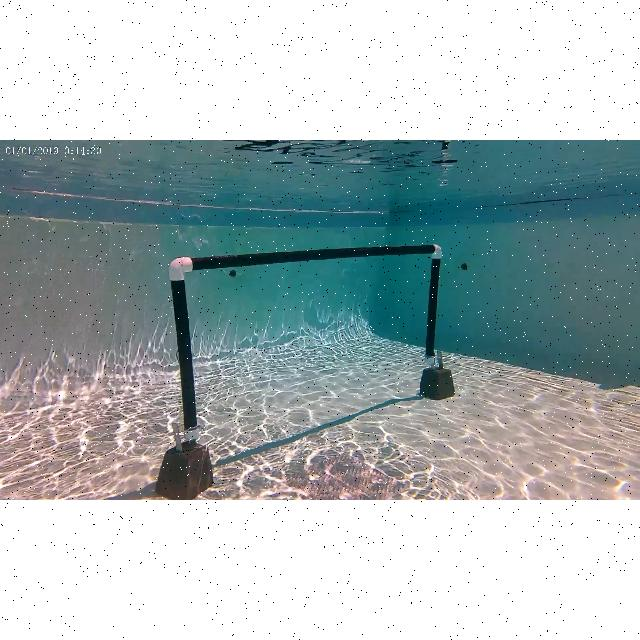prequal gate: (169, 247, 439, 436)
prequal gate leg l: (155, 257, 215, 499)
prequal gate leg r: (418, 242, 456, 400)
